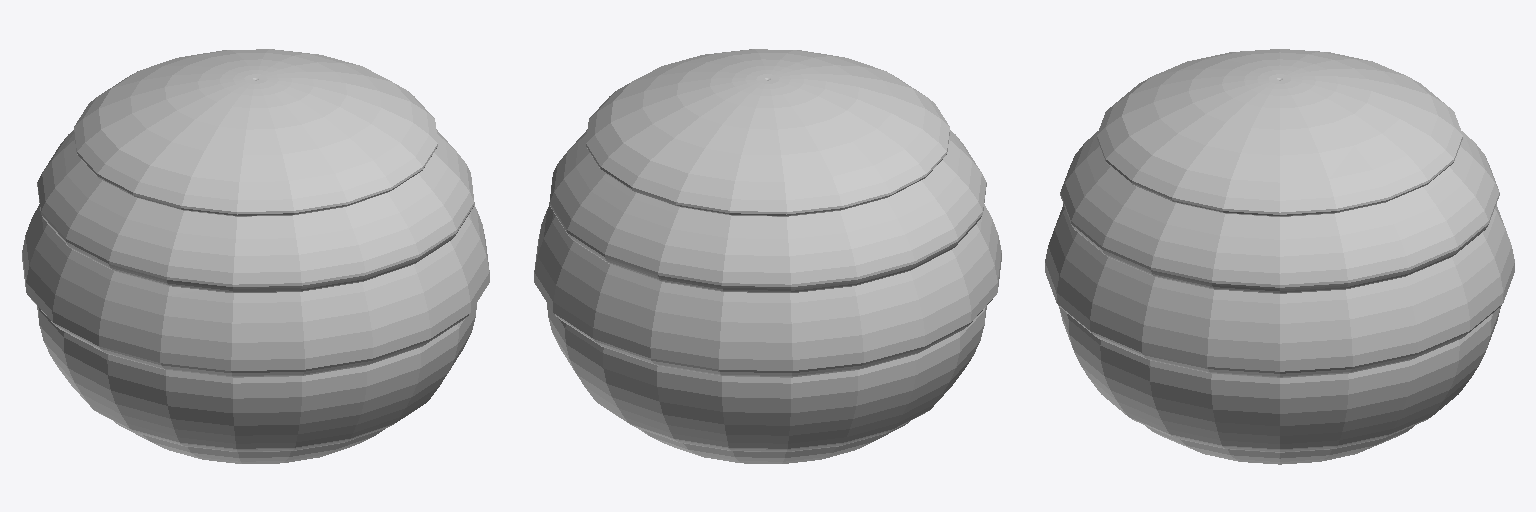
File: bulb-seams.obj
3 views of the same model, side by side, from view 1: azimuth 30°, elevation 25°; view 2: azimuth 150°, elevation 25°; view 3: azimuth 270°, elevation 25° (orthographic).
Visible parts, largest first — view 1: section_01 bulb_Seams, bulb_Seams section_03, bulb_Seams section_02, bulb_Seams section_04, bulb_Seams section_05; view 2: section_01 bulb_Seams, bulb_Seams section_03, bulb_Seams section_02, bulb_Seams section_04, bulb_Seams section_05; view 3: section_01 bulb_Seams, bulb_Seams section_03, bulb_Seams section_02, bulb_Seams section_04, bulb_Seams section_05.
Part boxes in pixels (left/top/right/bottom): section_01 bulb_Seams: left=74, top=49, right=437, bottom=216; bulb_Seams section_03: left=22, top=204, right=489, bottom=377; bulb_Seams section_02: left=37, top=129, right=474, bottom=292; bulb_Seams section_04: left=37, top=303, right=476, bottom=451; bulb_Seams section_05: left=114, top=421, right=384, bottom=463; section_01 bulb_Seams: left=586, top=49, right=949, bottom=216; bulb_Seams section_03: left=534, top=204, right=1001, bottom=377; bulb_Seams section_02: left=549, top=129, right=986, bottom=292; bulb_Seams section_04: left=547, top=303, right=986, bottom=451; bulb_Seams section_05: left=639, top=421, right=909, bottom=463; section_01 bulb_Seams: left=1097, top=49, right=1462, bottom=216; bulb_Seams section_03: left=1045, top=204, right=1514, bottom=377; bulb_Seams section_02: left=1060, top=131, right=1499, bottom=293; bulb_Seams section_04: left=1059, top=307, right=1500, bottom=452; bulb_Seams section_05: left=1145, top=425, right=1414, bottom=464.
Bounding box in the file's own units: 1.04 × 0.8604 × 1.04.